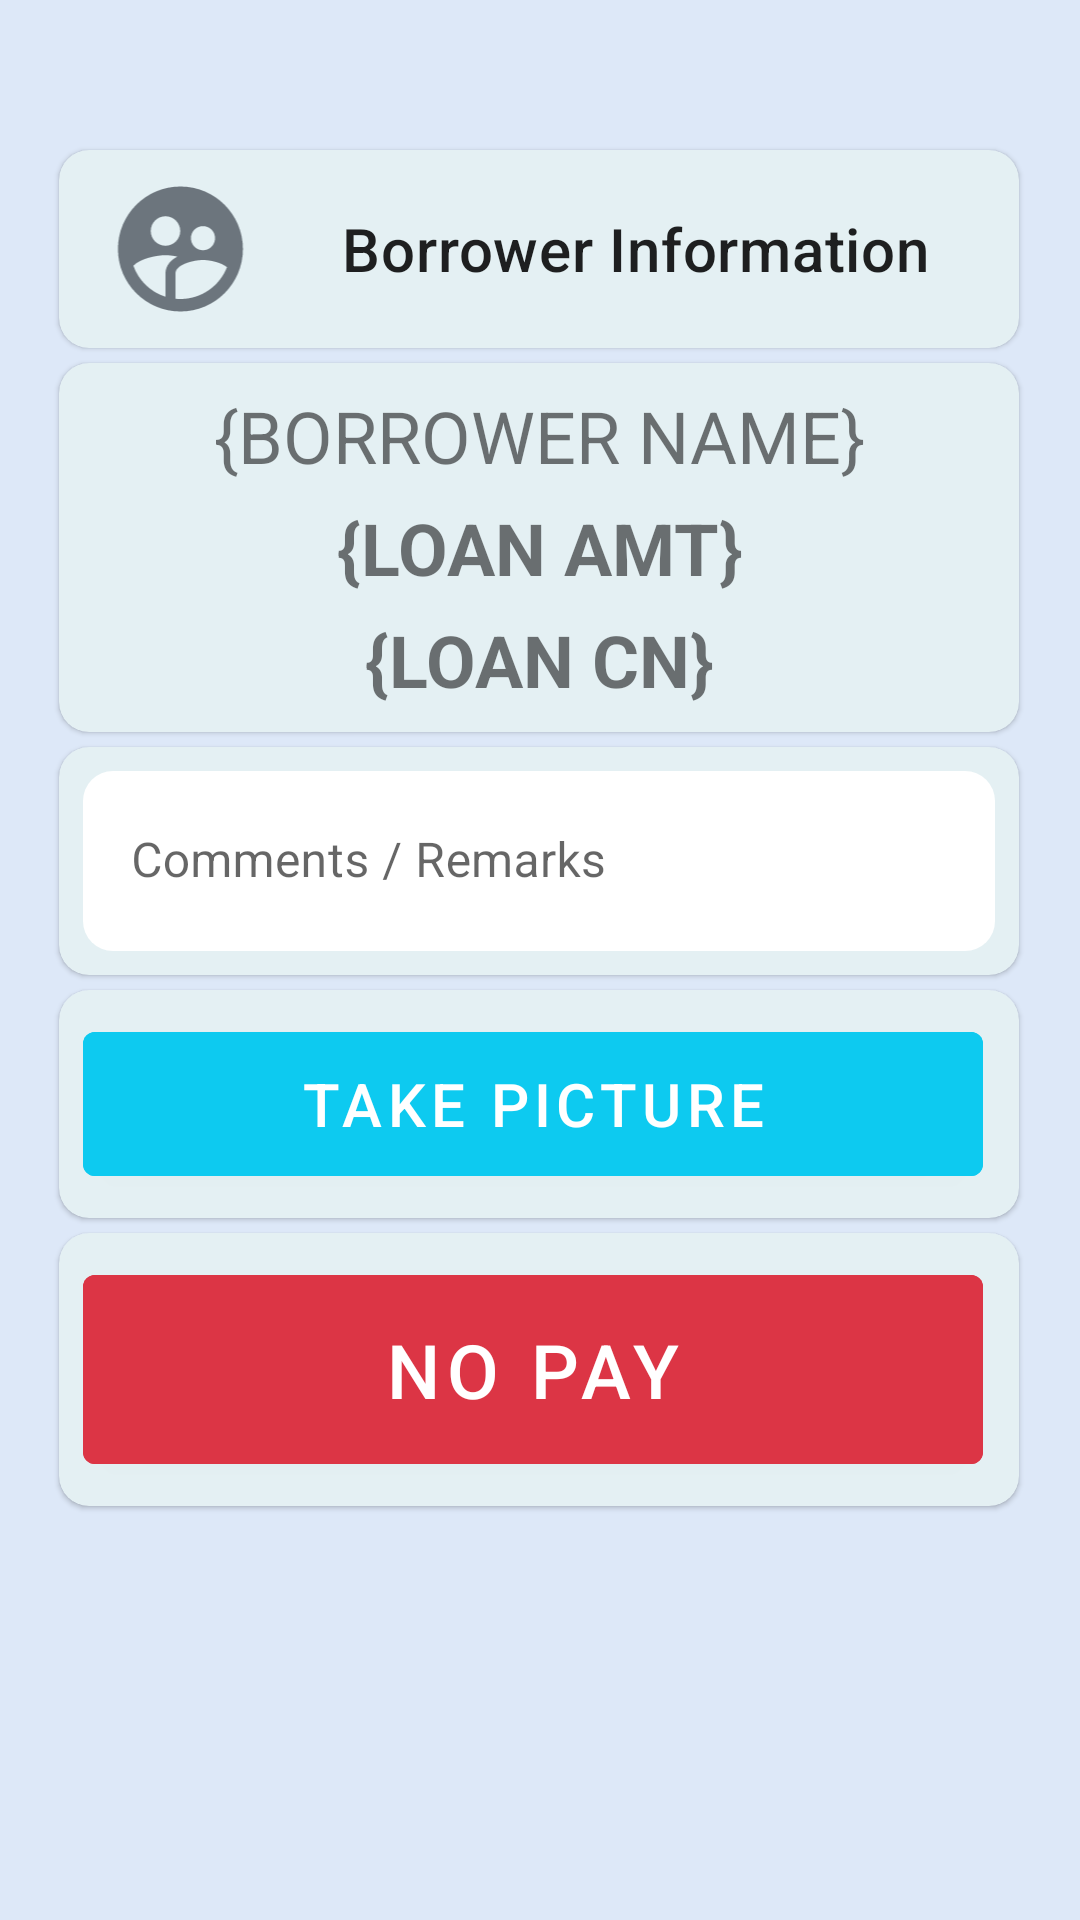

Screen size 1080 x 1920. Icon name, then its center in pixels as (x,y):
supervised user circle: (180,249)
